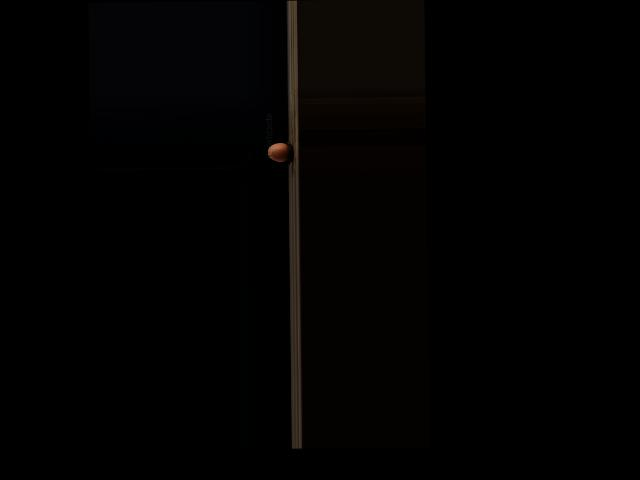egg: (267, 143, 288, 162)
